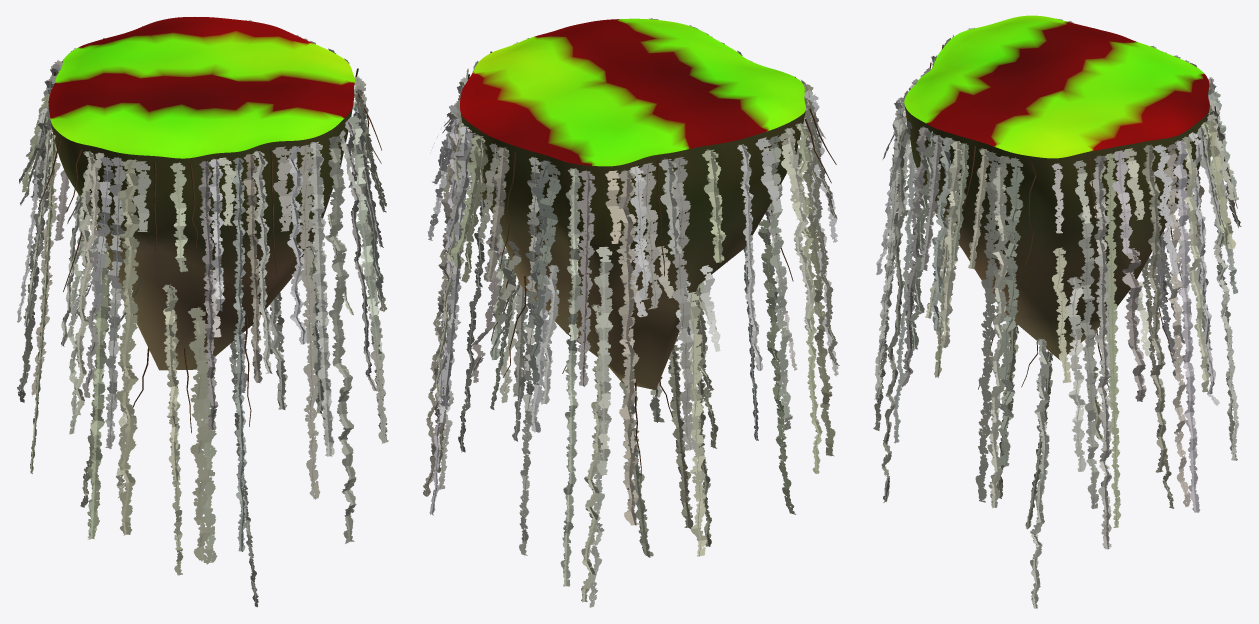
The model's file is SM_H13_Floater05.fbx.
3 views of the same model, side by side, from view 1: azimuth 30°, elevation 25°; view 2: azimuth 150°, elevation 25°; view 3: azimuth 270°, elevation 25° (orthographic). The views are drawn at different scales.
Parts seen in each view (by area): view 1: SM_H13_Floater05_Ivy, SM_H13_Floater05; view 2: SM_H13_Floater05_Ivy, SM_H13_Floater05; view 3: SM_H13_Floater05_Ivy, SM_H13_Floater05.
Part boxes in pixels (<box>): SM_H13_Floater05_Ivy: <box>17,20,388,607</box>; SM_H13_Floater05: <box>48,17,354,370</box>; SM_H13_Floater05_Ivy: <box>423,18,839,607</box>; SM_H13_Floater05: <box>460,18,805,389</box>; SM_H13_Floater05_Ivy: <box>873,18,1241,608</box>; SM_H13_Floater05: <box>904,15,1209,360</box>.
Bounding box in the file's own units: 26.62 × 38.84 × 25.91.
